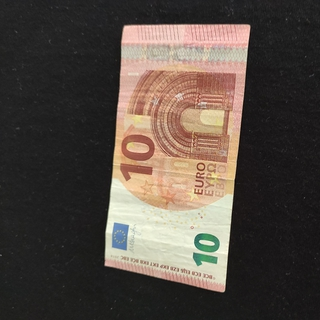10EUROFront: (103, 23, 250, 292)
